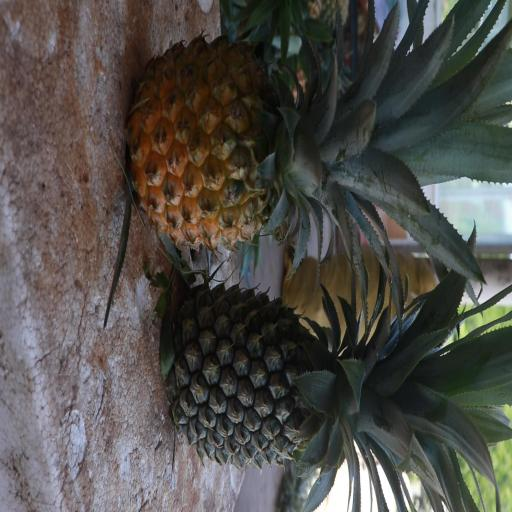Pineapple - v8 v1: (137, 43, 449, 245)
